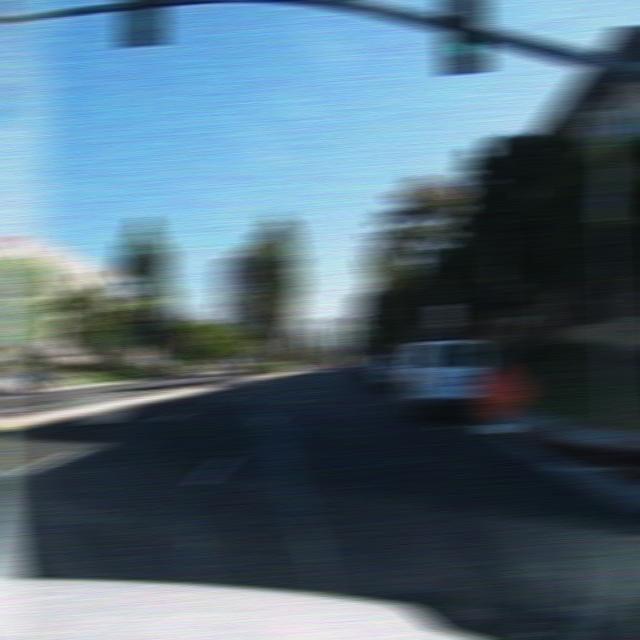speedLimit35: (430, 303, 458, 328)
